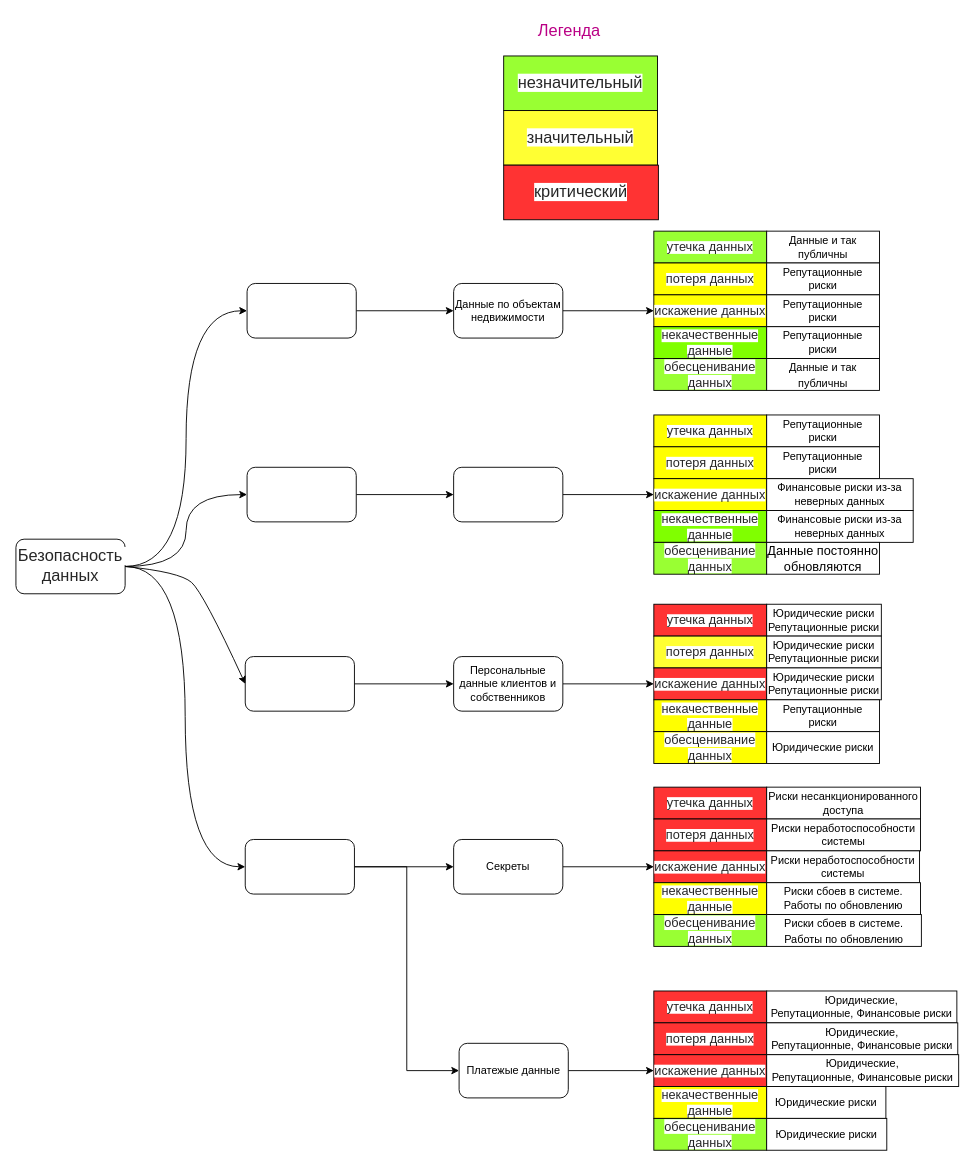
This 975x1166 diagram has some shape labels left out. The shapes that lost their labels are listed below. From the top down, each one's centre as x and y in pixels, then its label:
At point 301,310: "Публичные данные".
At point 301,494: "Внутренние данные".
At point 508,494: "Аналитическая статистика".
At point 299,683: "Конфиденциальные данные".
At point 299,866: "Секретные данные".
